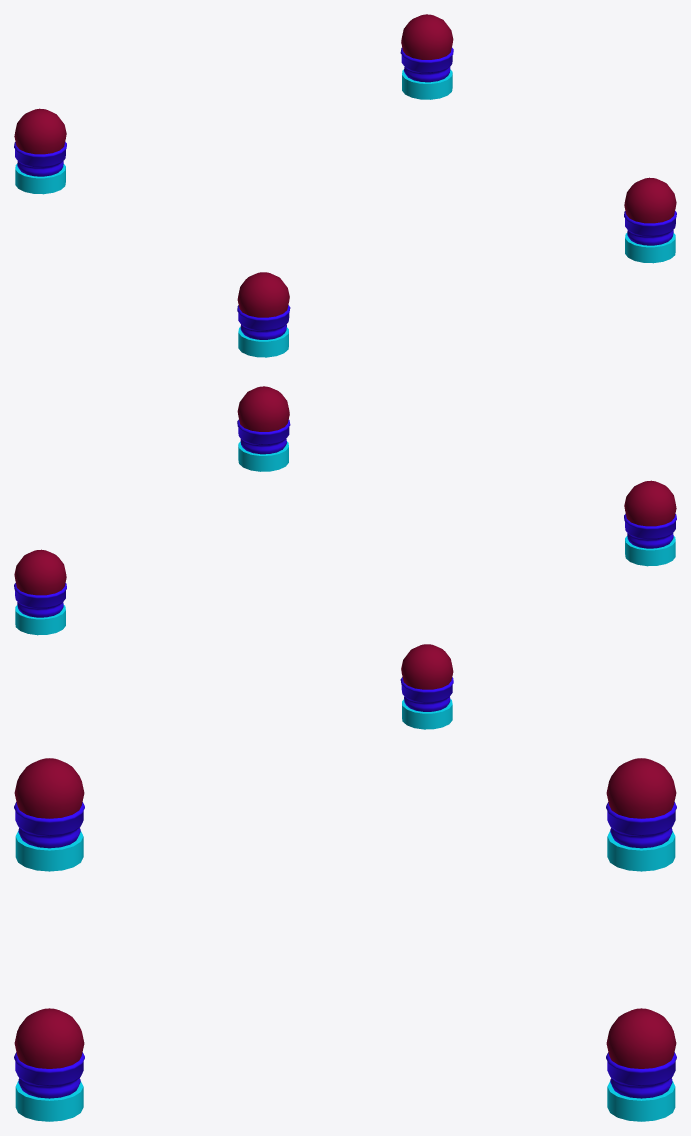
File: flag_board_lights.fbx
3 renders of one model, top to bottom at view 1: azimuth 30°, elevation 25°; view 2: azimuth 150°, elevation 25°; view 3: azimuth 270°, elevation 25°, orthographic. The views are drawn at different scales.
Parts seen in each view (by area): view 1: Circle.001; view 2: Circle.001; view 3: Circle.001.
Part boxes in pixels (x1,y1,x2,y2): Circle.001: (14, 14, 676, 357); Circle.001: (14, 386, 676, 729); Circle.001: (14, 758, 676, 1121).
Bounding box in the file's own units: 115 × 18.28 × 115.
